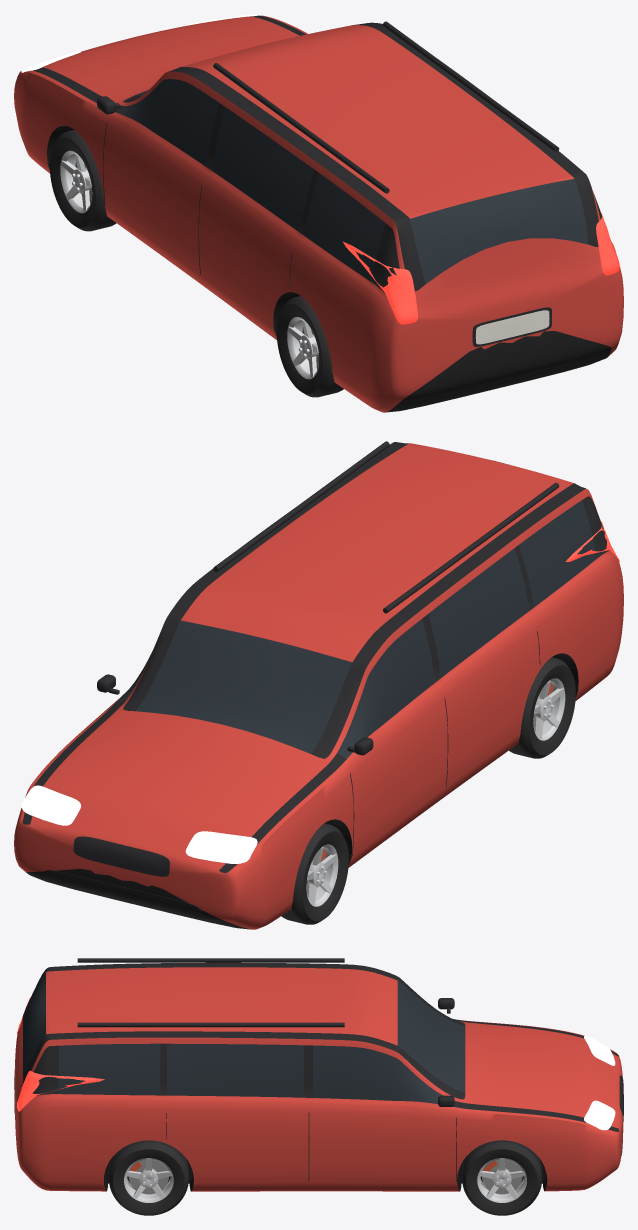
File: TrafficEstate.glb
3 views of the same model, one above another, from view 1: azimuth 30°, elevation 25°; view 2: azimuth 150°, elevation 25°; view 3: azimuth 270°, elevation 25° (orthographic). The views are drawn at different scales.
Visible parts, largest first — view 1: TrafficEstate_Body, TrafficEstate_Glass, TrafficEstate_Wheel_RL, TrafficEstate_Wheel_FL, TrafficEstate_Lights_Tail; view 2: TrafficEstate_Body, TrafficEstate_Glass, TrafficEstate_Wheel_FL, TrafficEstate_Wheel_RL, TrafficEstate_Lights_Head; view 3: TrafficEstate_Body, TrafficEstate_Glass, TrafficEstate_Wheel_FR, TrafficEstate_Wheel_RR, TrafficEstate_Lights_Head, TrafficEstate_Lights_Tail.
Boxes of the visible parts, x1,y1,x2,y2 form: TrafficEstate_Body: [14, 15, 623, 412]; TrafficEstate_Glass: [116, 79, 588, 283]; TrafficEstate_Wheel_RL: [276, 296, 343, 397]; TrafficEstate_Wheel_FL: [49, 129, 116, 231]; TrafficEstate_Lights_Tail: [343, 213, 619, 324]; TrafficEstate_Body: [14, 441, 623, 929]; TrafficEstate_Glass: [116, 460, 597, 758]; TrafficEstate_Wheel_FL: [281, 823, 348, 924]; TrafficEstate_Wheel_RL: [509, 657, 575, 758]; TrafficEstate_Lights_Head: [21, 785, 257, 863]; TrafficEstate_Body: [14, 958, 623, 1191]; TrafficEstate_Glass: [23, 972, 465, 1103]; TrafficEstate_Wheel_FR: [462, 1140, 542, 1215]; TrafficEstate_Wheel_RR: [109, 1140, 188, 1215]; TrafficEstate_Lights_Head: [584, 1036, 615, 1130]; TrafficEstate_Lights_Tail: [17, 997, 104, 1111].
Size of the model in its own units: 1.9 by 1.56 by 4.8.
